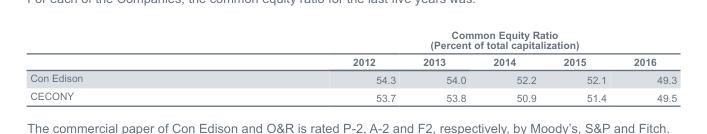table: (29, 28, 676, 102)
table column: (217, 28, 408, 102), (29, 28, 217, 102), (478, 28, 549, 102), (408, 28, 478, 102), (549, 28, 619, 102), (619, 28, 676, 102)
table column header: (29, 28, 676, 69)
table row: (29, 28, 676, 52), (29, 69, 676, 87), (29, 52, 676, 69), (29, 87, 676, 102)
table spanning cell: (217, 28, 676, 52)
